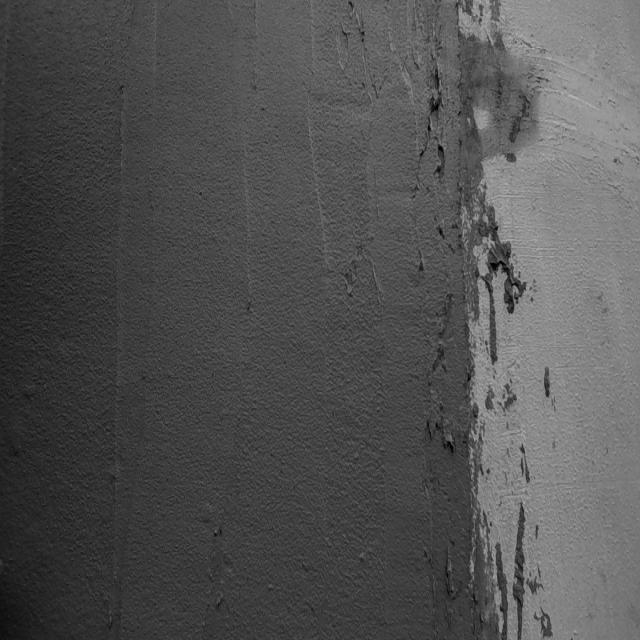trowels marks: (102, 91, 133, 601)
